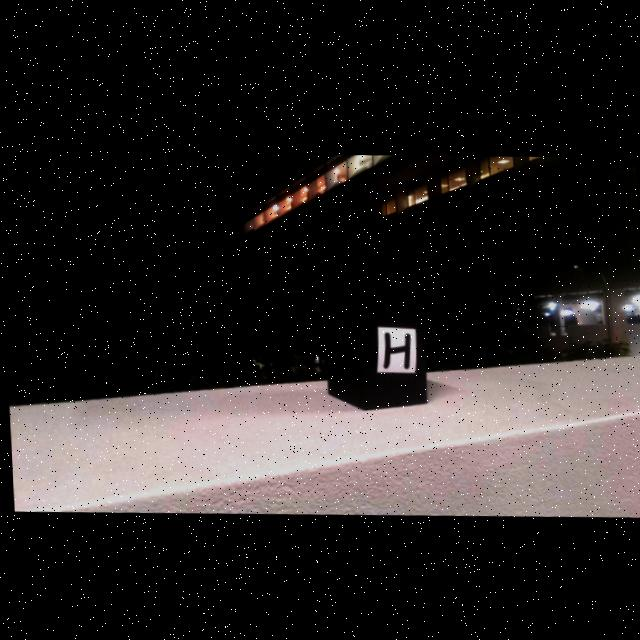H: (383, 329, 409, 364)
